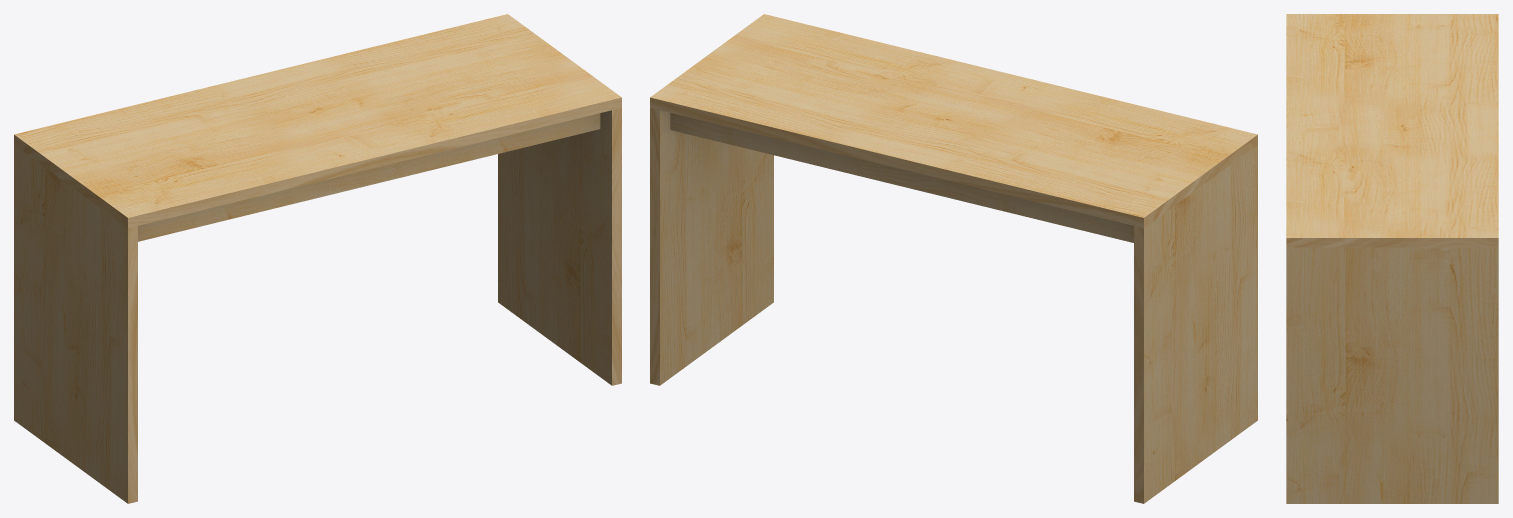
Rendered from tableWoodStraight.fbx.
The picture shows the model from 3 angles, left to right: view 1: azimuth 30°, elevation 25°; view 2: azimuth 150°, elevation 25°; view 3: azimuth 270°, elevation 25°; orthographic projection. The views are drawn at different scales.
Visible parts, largest first — view 1: tableWoodStraight; view 2: tableWoodStraight; view 3: tableWoodStraight.
Part boxes in pixels (bbox=[...]): tableWoodStraight: bbox=[14, 14, 621, 503]; tableWoodStraight: bbox=[650, 14, 1257, 503]; tableWoodStraight: bbox=[1286, 14, 1498, 503].
Bounding box in the file's own units: 3 × 1.66 × 1.2.
Materials: 1 (1 with a texture image).
